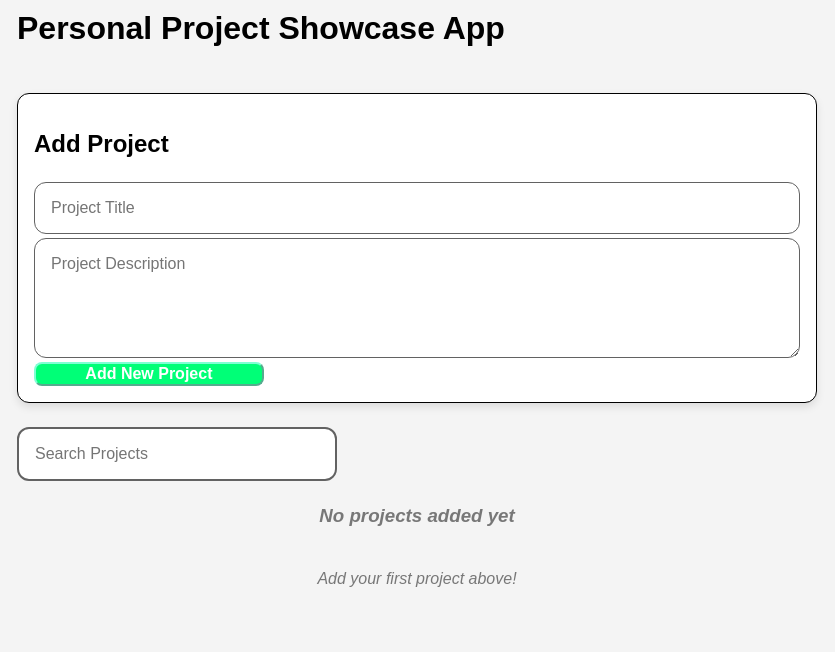
Scenario: deletes a project
This screenshot has width=835, height=652.
Type "Delete Me" into the field with placeholder "Project Title" at (417, 208), box left=34, top=182, right=800, bottom=234
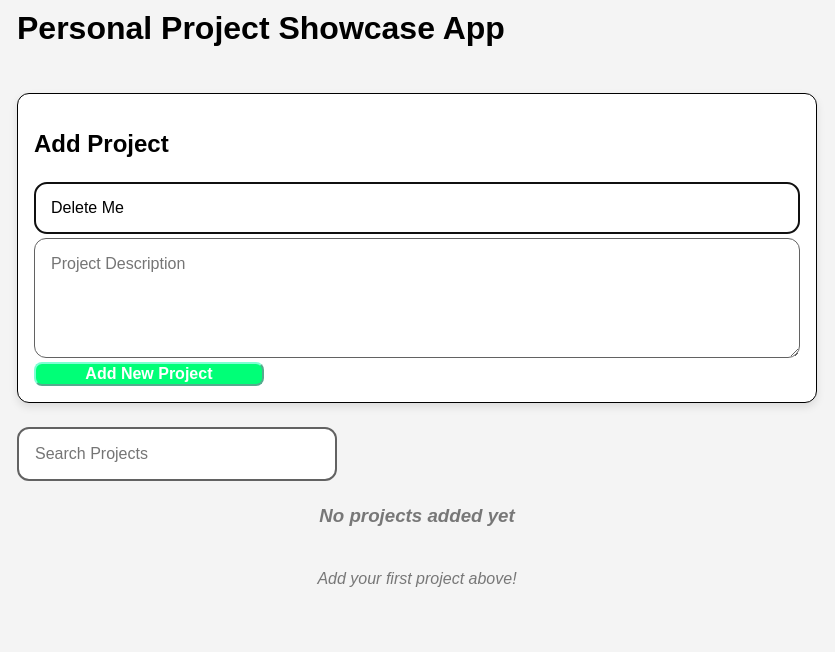
Type "Temporary project" into the text box with placeholder "Project Description" at (417, 298), box left=34, top=238, right=800, bottom=358
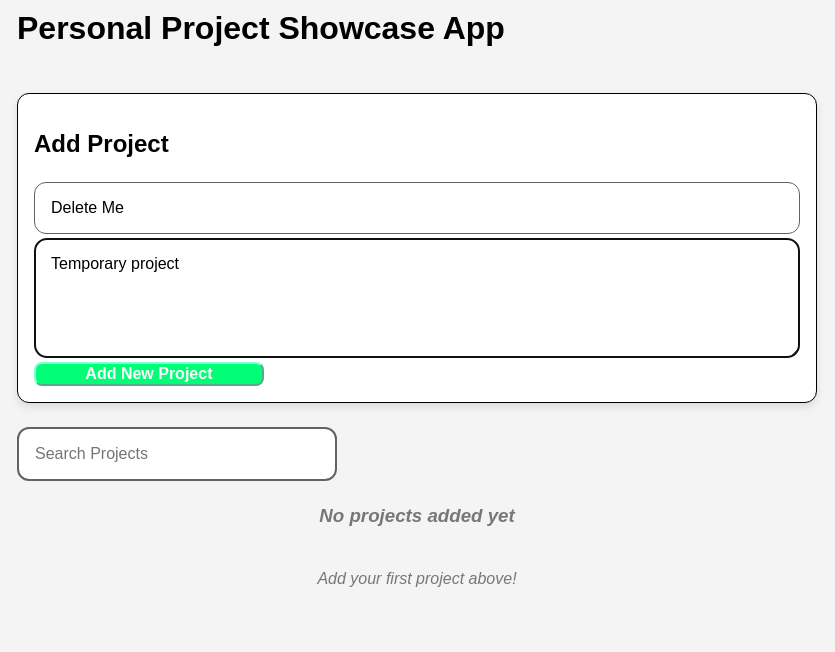
Click the button "Add New Project" at (149, 374), box left=34, top=362, right=264, bottom=386
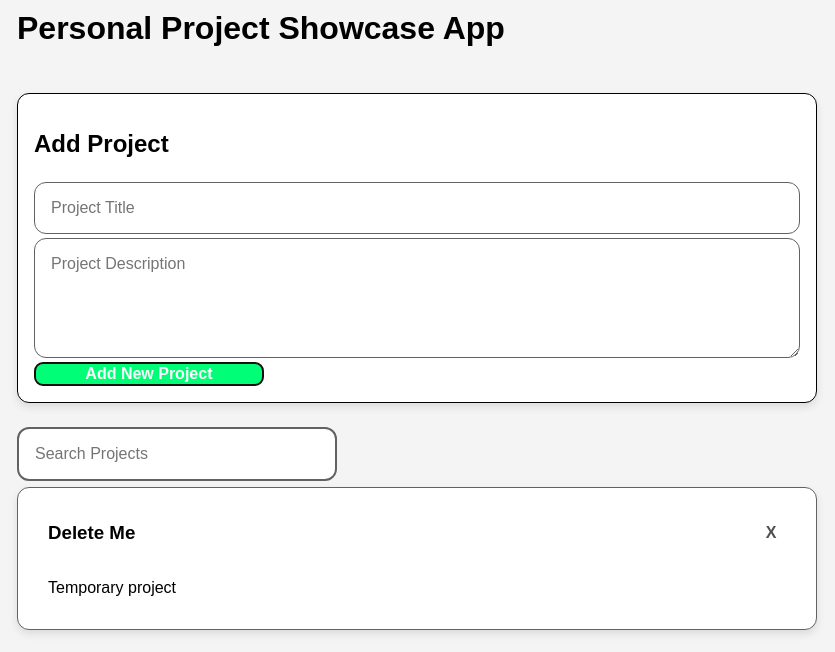
Click the button "X" at (771, 533), box left=756, top=518, right=786, bottom=548
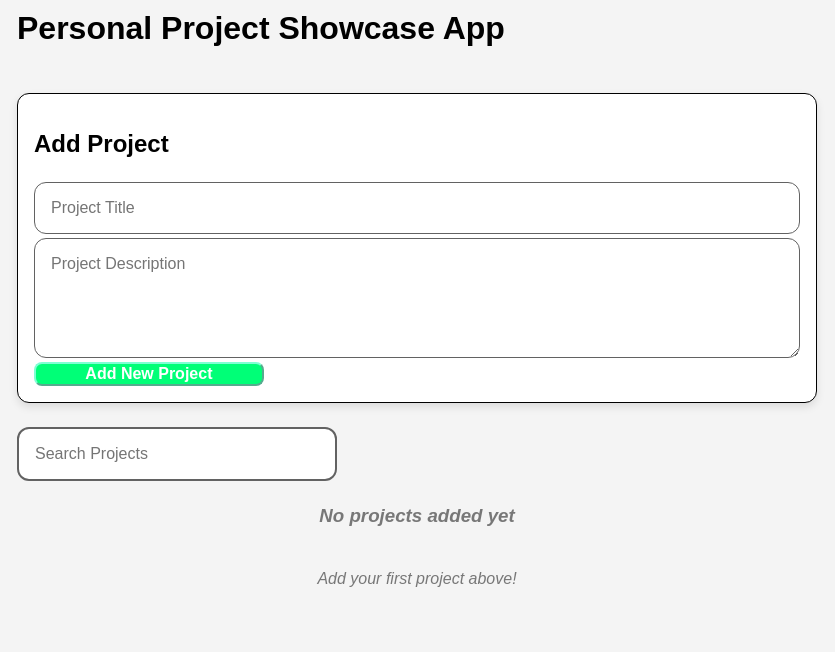
Check: the heading "Delete Me" is gone
